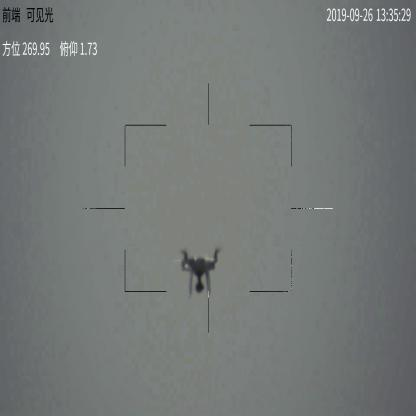uav: (174, 248, 226, 295)
